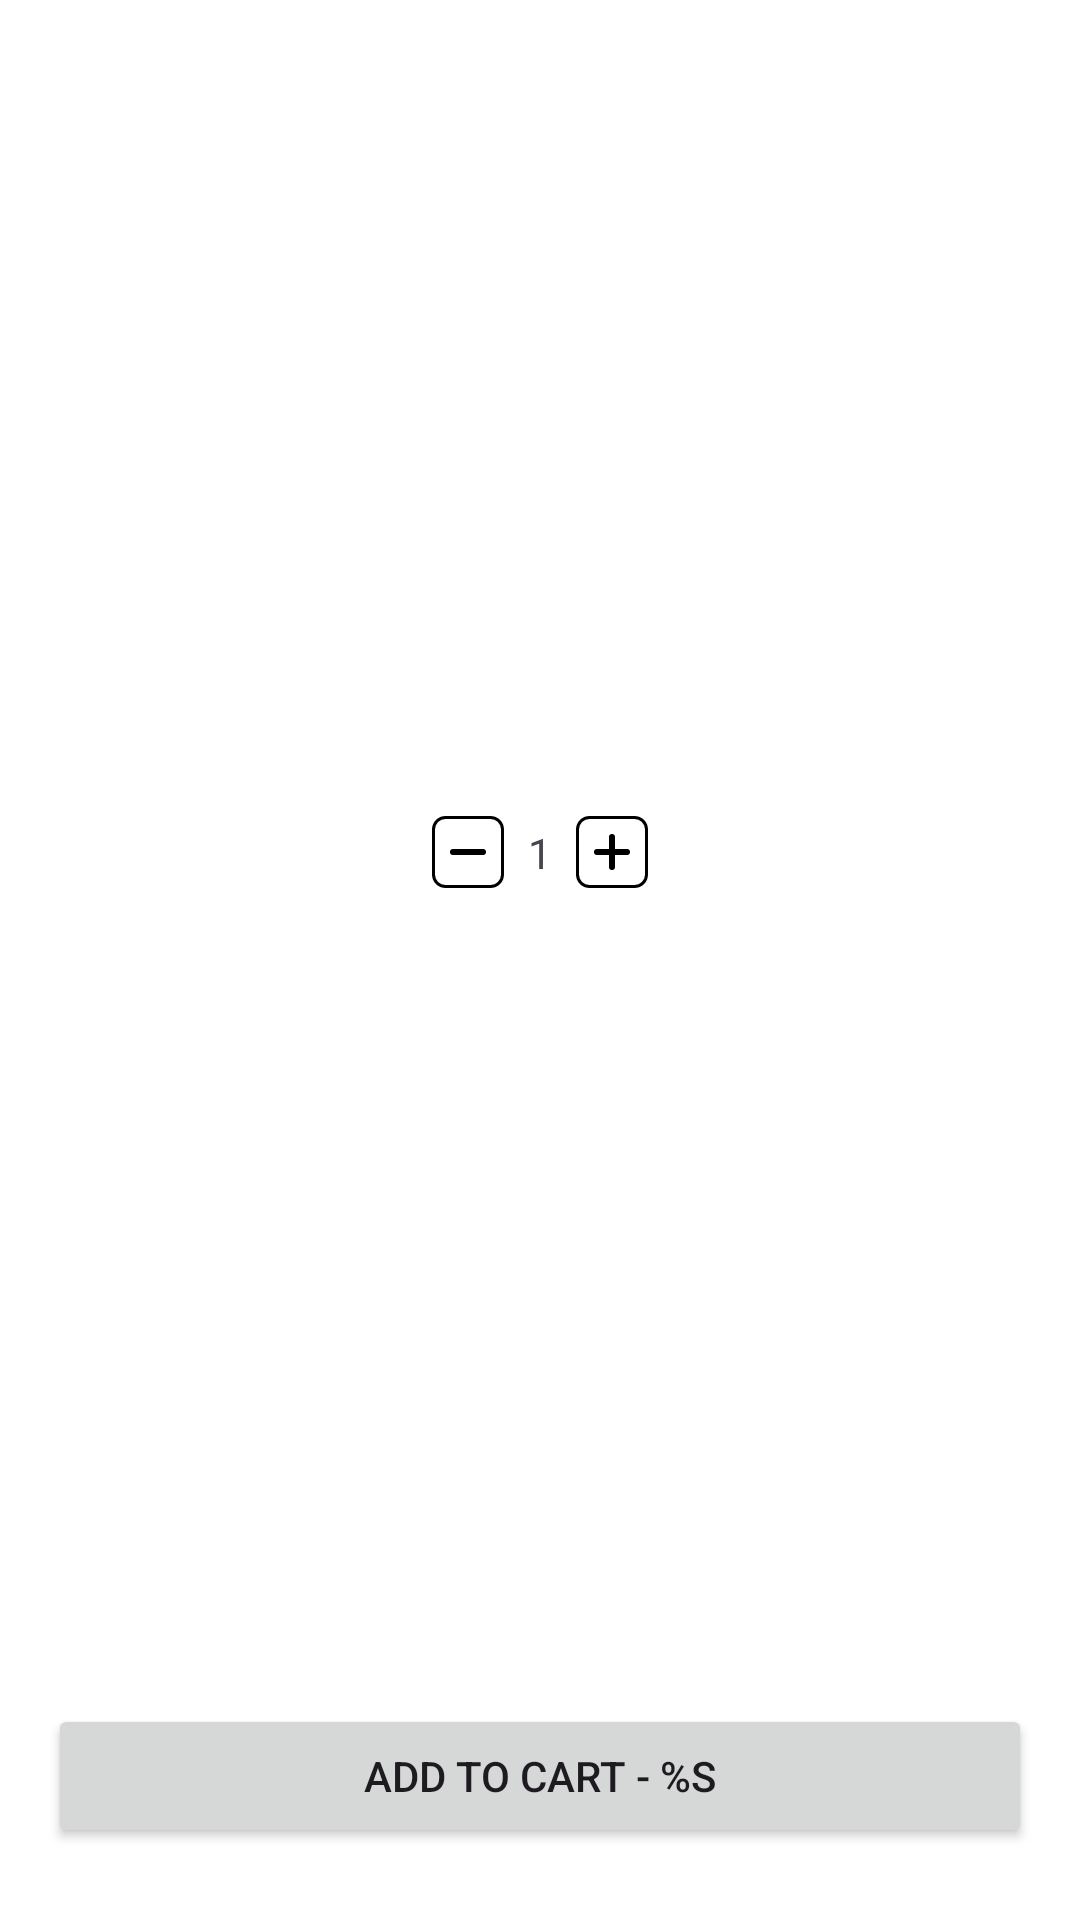

Icon click points for this 1080px x 1920px phone screenshot, format [x,y]:
minus: [468,852]
plus: [612,852]
